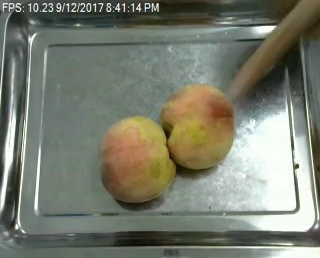Peach: (97, 115, 175, 205), (158, 84, 234, 168)
